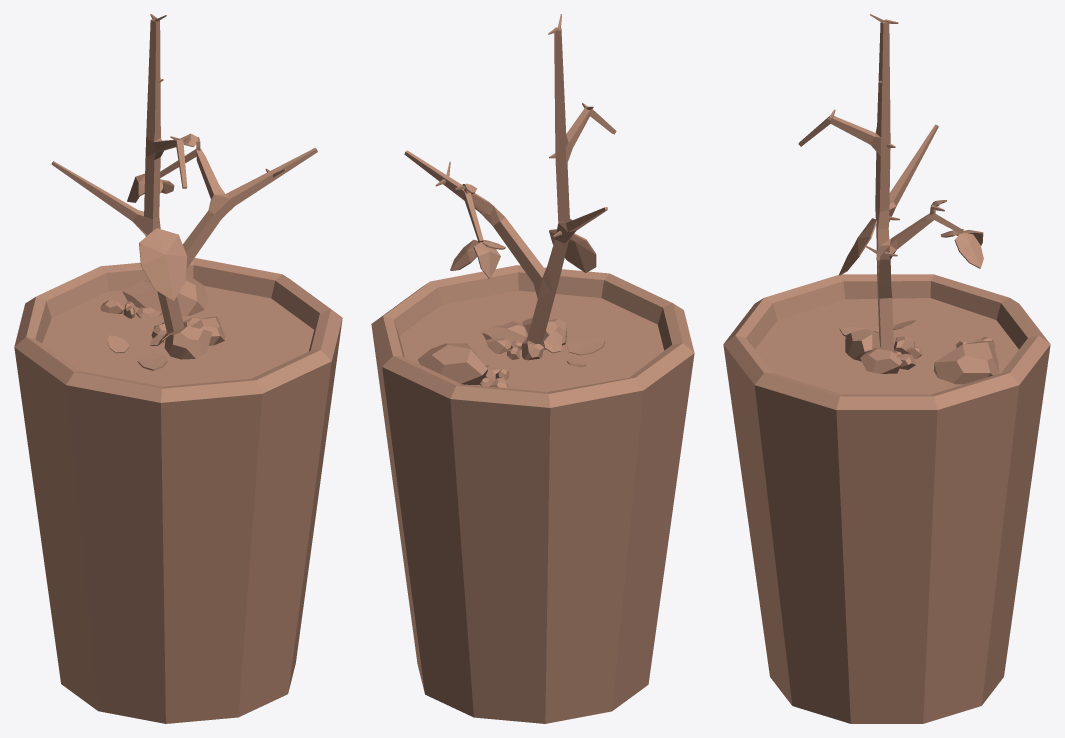
File: pot2.glb
3 renders of one model, left to right at view 1: azimuth 30°, elevation 25°; view 2: azimuth 150°, elevation 25°; view 3: azimuth 270°, elevation 25°, orthographic. The views are drawn at different scales.
Visible parts, largest first — view 1: Vase.034; view 2: Vase.034; view 3: Vase.034.
Part boxes in pixels (bbox=[...]): Vase.034: bbox=[14, 14, 342, 723]; Vase.034: bbox=[371, 14, 694, 723]; Vase.034: bbox=[723, 14, 1050, 723].
Bounding box in the file's own units: 0.4642 × 1.07 × 0.4881.
